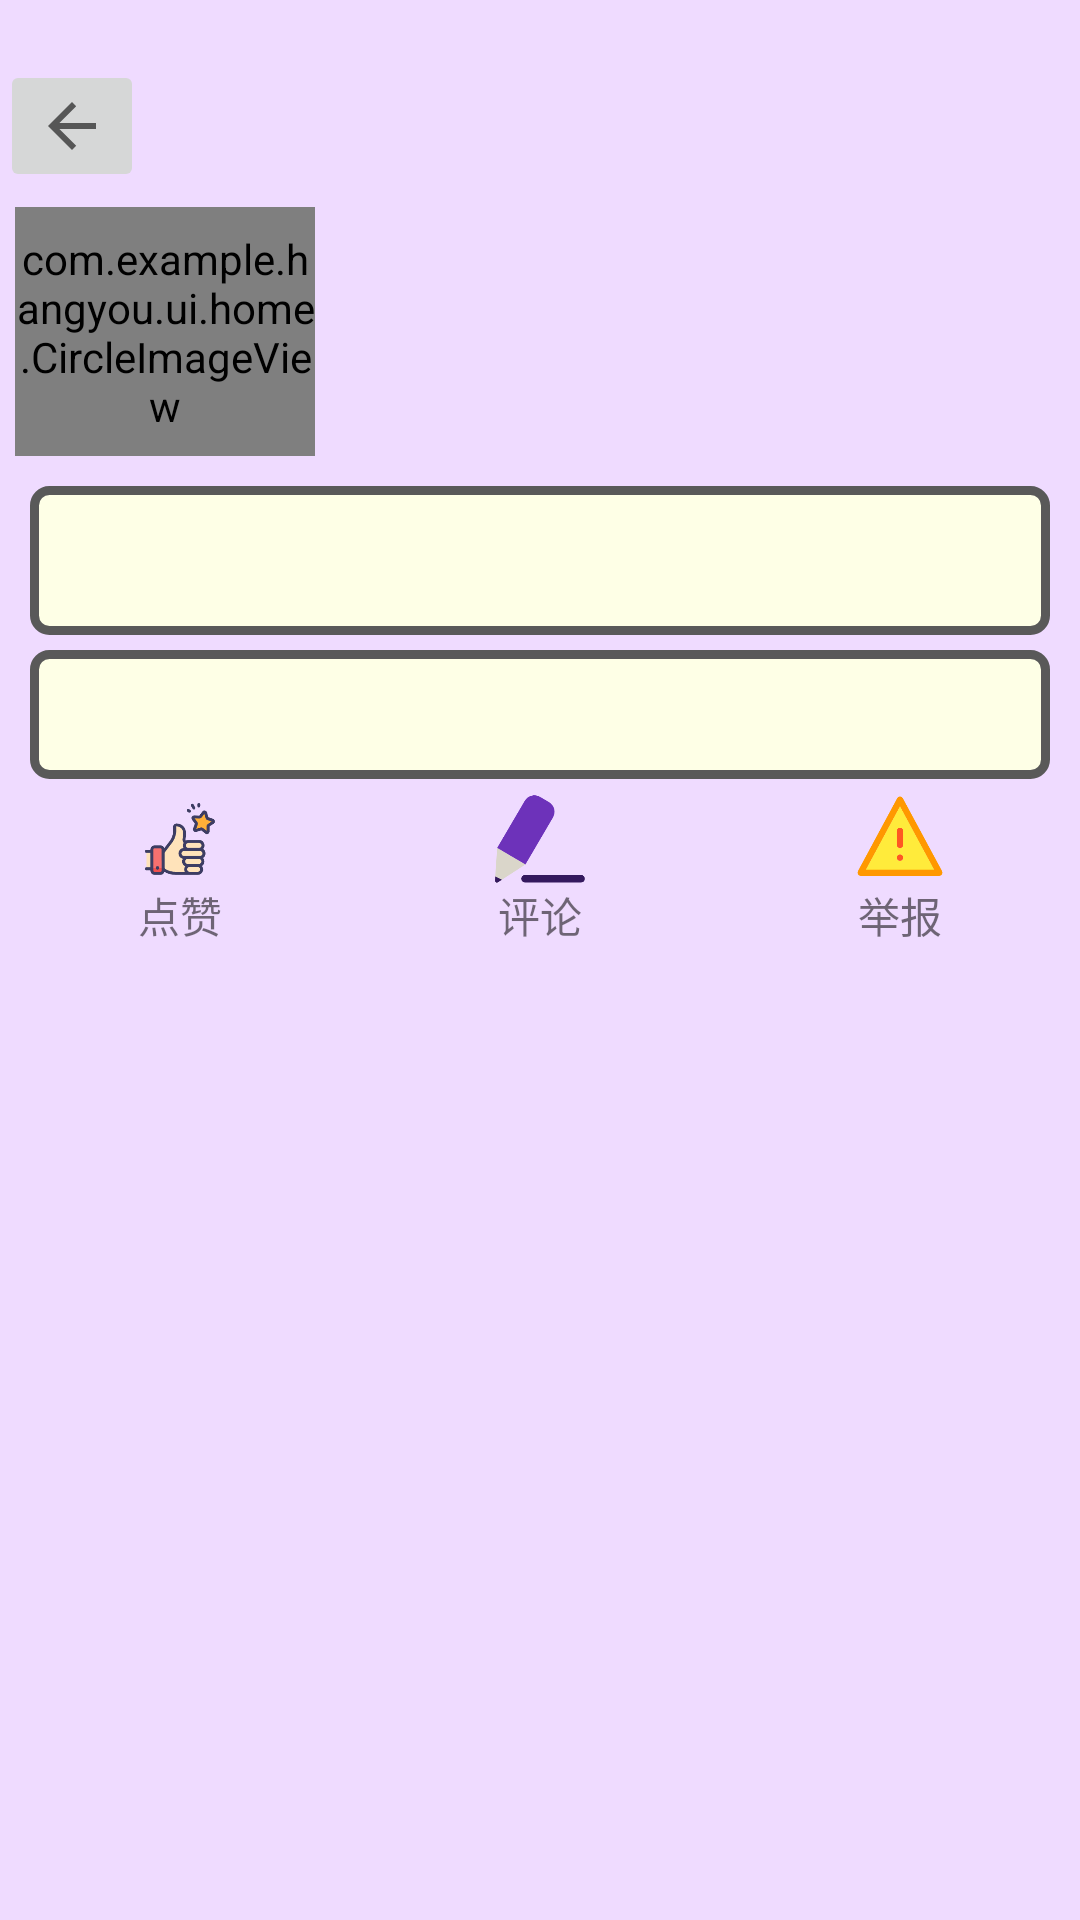

Icon click points for this 1080×1920 phone screenshot, format (x,y):
warning: (900,836)
